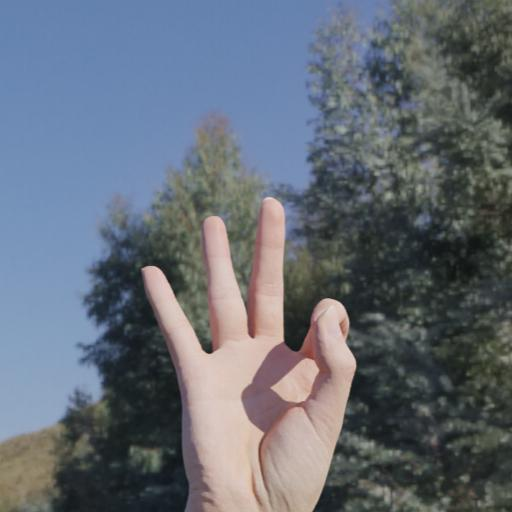F: (139, 192, 363, 512)
